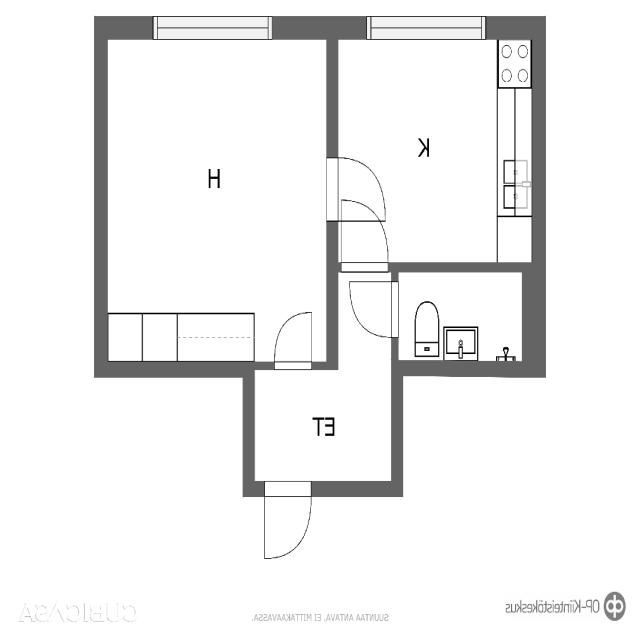door: (259, 479, 318, 564), (331, 151, 393, 225), (339, 195, 396, 271), (346, 269, 402, 342), (266, 305, 317, 374)
window: (151, 12, 275, 45), (366, 13, 488, 44)
zone: (107, 32, 331, 360), (334, 38, 538, 268), (325, 272, 394, 496), (394, 268, 528, 362), (252, 366, 333, 490), (362, 12, 488, 45), (412, 302, 441, 356)
